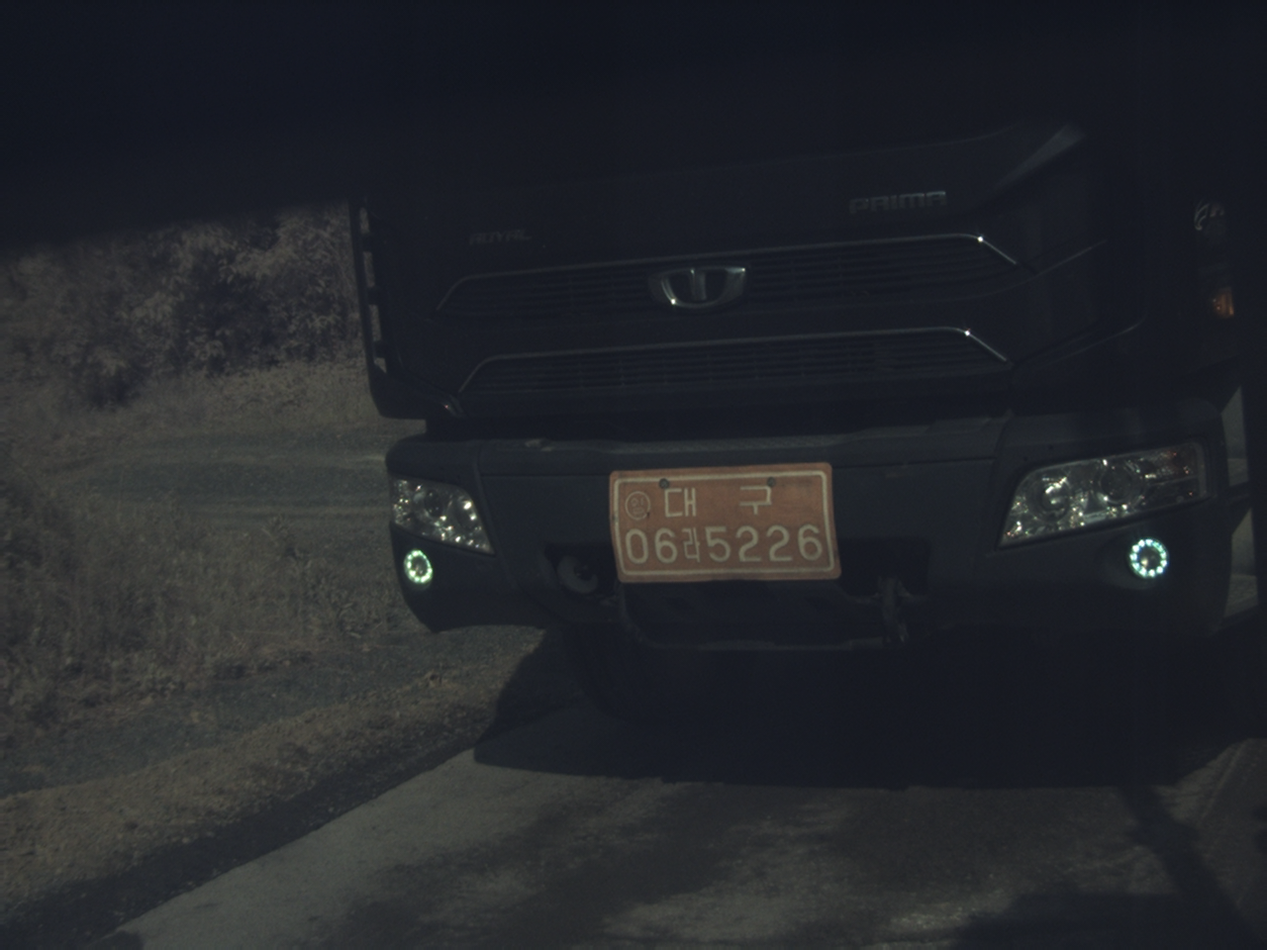license_plate: (611, 464, 839, 583)
truck: (354, 15, 1255, 718)
